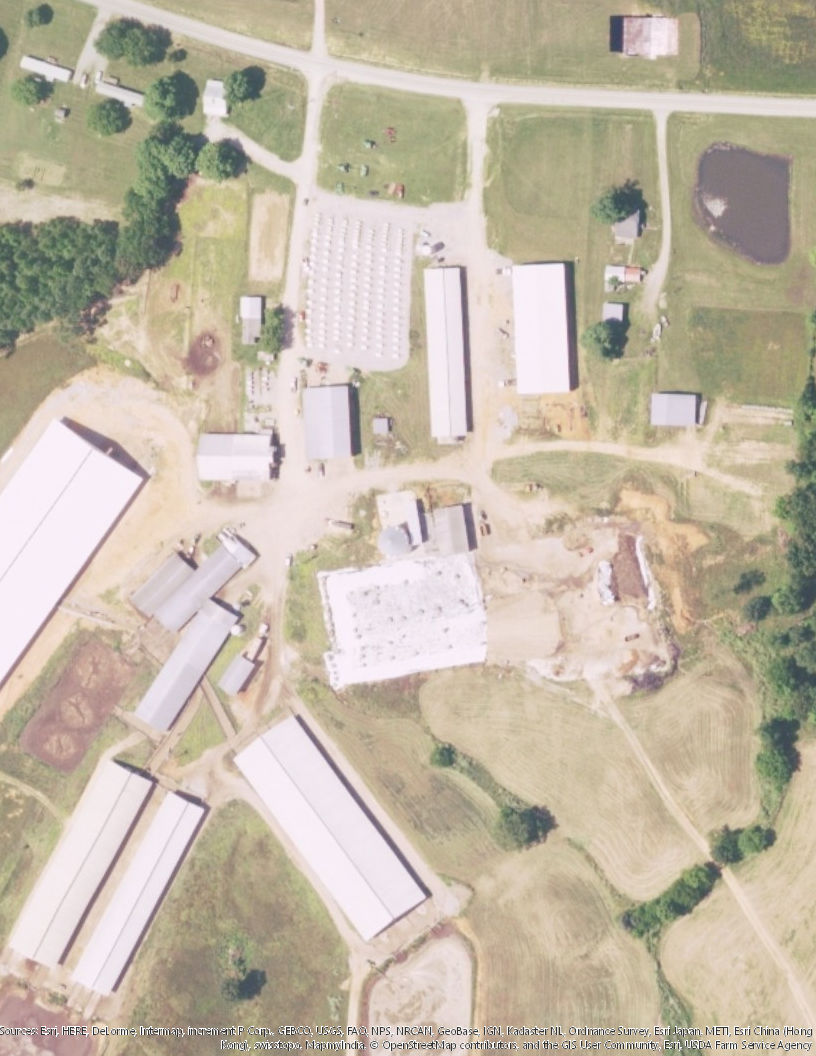cafo: (234, 708, 433, 941), (1, 418, 157, 702), (6, 753, 157, 975), (68, 786, 212, 997), (129, 594, 242, 733), (131, 532, 266, 633), (506, 253, 583, 401), (423, 261, 480, 446), (296, 380, 368, 464), (194, 426, 291, 488)
